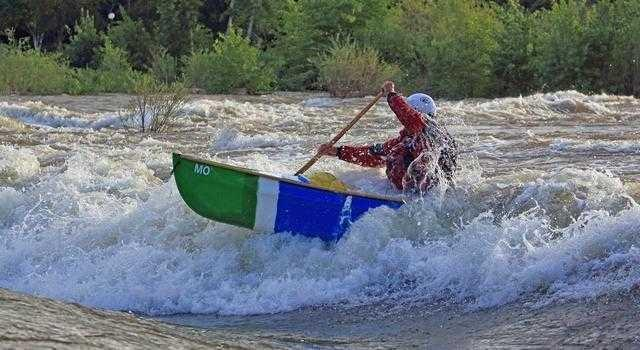kayak: (171, 152, 407, 243)
